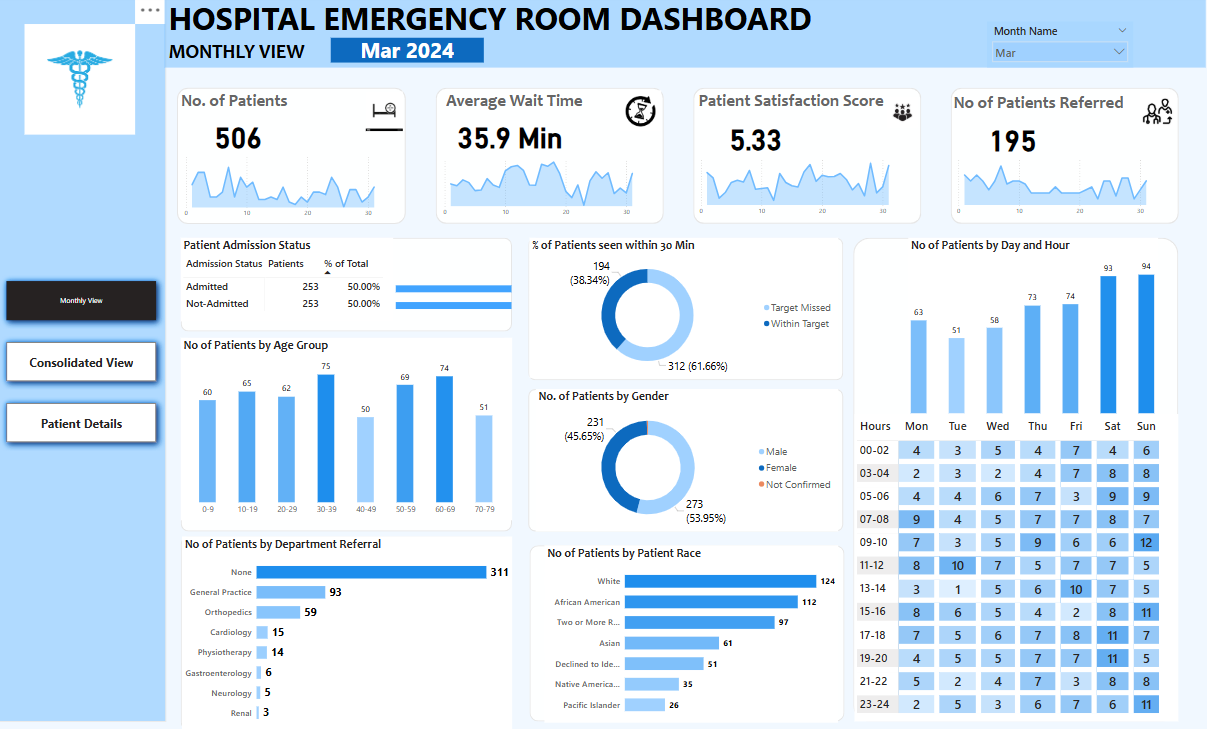

The dashboard page shown, as its layout file describes it:
{"tool":"powerbi","page":{"name":"Monthly View","canvas":[2300,1400],"ordinal":0},"visuals":[{"type":"shape","box":[2.4,0,319.2,1383.4],"z":0},{"type":"shape","box":[318.6,0,1980.6,140.3],"z":1000},{"type":"textbox","box":[320.5,0,1262.4,106],"z":2000},{"type":"shape","box":[342.4,177.4,435.1,259.2],"z":3000},{"type":"textbox","box":[320.5,81.4,969,59.2],"z":4000},{"type":"card","fields":{"Values":["Hospital ER_Data.No of Patients"]},"box":[382.2,234.2,150.4,64.1],"z":5000},{"type":"slicer","fields":{"Values":["Date Table.Month Name"]},"box":[1883.2,52.3,278.2,88],"z":6000},{"type":"areaChart","fields":{"Category":["Date Table.Date.Variation.Date Hierarchy.Day"],"Y":["Hospital ER_Data.No of Patients"]},"box":[345.2,298.4,434,138.1],"z":7000},{"type":"card","fields":{"Values":["Min(Date Table.Month & Year)"]},"box":[633.7,83.8,291,46.8],"z":8000},{"type":"textbox","box":[345.2,177.5,266.3,56.7],"z":9000},{"type":"shape","box":[834,177.4,434,258.9],"z":10000},{"type":"card","fields":{"Values":["Hospital ER_Data.Avg Wait time"]},"box":[848.8,235.4,254.4,64.2],"z":11000},{"type":"areaChart","fields":{"Category":["Date Table.Date.Variation.Date Hierarchy.Day"],"Y":["Avg(Hospital ER_Data.Patient Waittime)"]},"box":[837,302,432.7,130.8],"z":12000},{"type":"textbox","box":[849.4,177.2,300.9,56.2],"z":13000},{"type":"shape","box":[1324.4,177.4,434,258.9],"z":14000},{"type":"shape","box":[1814.8,177.4,434,258.9],"z":15000},{"type":"textbox","box":[1329.2,178.3,404.2,57.1],"z":16000},{"type":"card","fields":{"Values":["Hospital ER_Data.Satisfaction Score"]},"box":[1324.7,233.4,236.2,75.9],"z":17000},{"type":"areaChart","fields":{"Category":["Date Table.Date.Variation.Date Hierarchy.Day"],"Y":["Hospital ER_Data.Satisfaction Score"]},"box":[1324.7,300.9,433.1,129.4],"z":18000},{"type":"textbox","box":[1814,180,405,56.2],"z":19000},{"type":"shape","box":[349.5,463.7,630.1,178.3],"z":20000},{"type":"card","fields":{"Values":["Hospital ER_Data.No of Patient Referred"]},"box":[1814,236.2,236.2,75.9],"z":21000},{"type":"areaChart","fields":{"Category":["Date Table.Date.Variation.Date Hierarchy.Day"],"Y":["Hospital ER_Data.No of Patient Referred"]},"box":[1814,300.9,433.1,129.4],"z":22000},{"type":"pivotTable","title":"Patient Admission Status","fields":{"Rows":["Hospital ER_Data.Admission Status"],"Values":["Hospital ER_Data.No of Patients1","Hospital ER_Data.No of Patients"]},"box":[349.5,463.7,404.2,159.3],"z":23000},{"type":"barChart","fields":{"Category":["Hospital ER_Data.Admission Status"],"Y":["Hospital ER_Data.No of Patients"]},"box":[753.7,525.5,271.1,97.5],"z":24000},{"type":"shape","box":[349.5,653.9,630.1,368.5],"z":25000},{"type":"clusteredColumnChart","fields":{"Category":["Hospital ER_Data.Age Group"],"Y":["Hospital ER_Data.No of Patients"]},"box":[349.5,653.9,630.1,347.1],"z":26000},{"type":"shape","box":[349.5,1031.9,630.1,368.5],"z":27000},{"type":"clusteredBarChart","fields":{"Category":["Hospital ER_Data.Department Referral"],"Y":["Hospital ER_Data.No of Patients"]},"box":[351.9,1031.9,627.7,368.5],"z":28000},{"type":"shape","box":[1010.5,463.7,599.2,271.1],"z":29000},{"type":"donutChart","title":"% of Patients seen within 30 Min","fields":{"Category":["Hospital ER_Data.Wait-time Status"],"Y":["Hospital ER_Data.No of Patients"]},"box":[1012.9,463.7,587.3,266.3],"z":30000},{"type":"shape","box":[1010.5,751.4,599.2,271.1],"z":31000},{"type":"donutChart","title":"No. of Patients by Gender","fields":{"Y":["Hospital ER_Data.No of Patients"],"Category":["Hospital ER_Data.Patient Gender"]},"box":[1024.8,751.4,575.4,271.1],"z":32000},{"type":"shape","box":[1012.9,1048.6,599.2,335.3],"z":33000},{"type":"clusteredBarChart","fields":{"Y":["Hospital ER_Data.No of Patients"],"Category":["Hospital ER_Data.Patient Race"]},"box":[1041.4,1048.6,558.8,337.6],"z":34000},{"type":"image","box":[48.4,53.2,220.1,220.1],"z":35000},{"type":"shape","box":[1628.7,463.7,618.2,920.2],"z":36000},{"type":"pivotTable","fields":{"Rows":["Hospital ER_Data.Waittime Interval"],"Columns":["Date Table.Day Name"],"Values":["Hospital ER_Data.No of Patients"]},"box":[1631.1,798.9,615.8,584.9],"z":37000},{"type":"columnChart","title":"No of Patients by Day and Hour","fields":{"Category":["Date Table.Day Name"],"Y":["Hospital ER_Data.No of Patients"]},"box":[1733.4,463.7,475.5,340],"z":38000},{"type":"image","box":[1179.4,178.3,90.4,88],"z":39000},{"type":"image","box":[1688.2,180.7,69,88],"z":40000},{"type":"image","box":[694.1,181.4,84.6,84.6],"z":41000},{"type":"image","box":[2168.5,180.7,78.5,85.6],"z":42000},{"type":"pageNavigator","box":[2.4,530.7,316.8,338.6],"z":43000}]}

Visuals, with their boxes in screenshot pixels (x1, y1, x2, y2), scaled from the page's 2300x1400 canvas onto the 1207x729 screenshot:
shape: <region>1, 0, 169, 720</region>
shape: <region>167, 0, 1206, 73</region>
textbox: <region>168, 0, 831, 55</region>
shape: <region>180, 92, 408, 227</region>
textbox: <region>168, 42, 677, 73</region>
card - Hospital ER_Data.No of Patients: <region>201, 122, 279, 155</region>
slicer - Date Table.Month Name: <region>988, 27, 1134, 73</region>
areaChart - Date Table.Date.Variation.Date Hierarchy.Day x Hospital ER_Data.No of Patients: <region>181, 155, 409, 227</region>
card - Min(Date Table.Month & Year): <region>333, 44, 485, 68</region>
textbox: <region>181, 92, 321, 122</region>
shape: <region>438, 92, 665, 227</region>
card - Hospital ER_Data.Avg Wait time: <region>445, 123, 579, 156</region>
areaChart - Date Table.Date.Variation.Date Hierarchy.Day x Avg(Hospital ER_Data.Patient Waittime): <region>439, 157, 666, 225</region>
textbox: <region>446, 92, 604, 122</region>
shape: <region>695, 92, 923, 227</region>
shape: <region>952, 92, 1180, 227</region>
textbox: <region>698, 93, 910, 123</region>
card - Hospital ER_Data.Satisfaction Score: <region>695, 122, 819, 161</region>
areaChart - Date Table.Date.Variation.Date Hierarchy.Day x Hospital ER_Data.Satisfaction Score: <region>695, 157, 922, 224</region>
textbox: <region>952, 94, 1164, 123</region>
shape: <region>183, 241, 514, 334</region>
card - Hospital ER_Data.No of Patient Referred: <region>952, 123, 1076, 163</region>
areaChart - Date Table.Date.Variation.Date Hierarchy.Day x Hospital ER_Data.No of Patient Referred: <region>952, 157, 1179, 224</region>
"Patient Admission Status" pivotTable: <region>183, 241, 396, 324</region>
barChart - Hospital ER_Data.Admission Status x Hospital ER_Data.No of Patients: <region>396, 274, 538, 324</region>
shape: <region>183, 340, 514, 532</region>
clusteredColumnChart - Hospital ER_Data.Age Group x Hospital ER_Data.No of Patients: <region>183, 340, 514, 521</region>
shape: <region>183, 537, 514, 728</region>
clusteredBarChart - Hospital ER_Data.Department Referral x Hospital ER_Data.No of Patients: <region>185, 537, 514, 728</region>
shape: <region>530, 241, 845, 383</region>
"% of Patients seen within 30 Min" donutChart: <region>532, 241, 840, 380</region>
shape: <region>530, 391, 845, 532</region>
"No. of Patients by Gender" donutChart: <region>538, 391, 840, 532</region>
shape: <region>532, 546, 846, 721</region>
clusteredBarChart - Hospital ER_Data.No of Patients x Hospital ER_Data.Patient Race: <region>547, 546, 840, 722</region>
image: <region>25, 28, 141, 142</region>
shape: <region>855, 241, 1179, 721</region>
pivotTable - Hospital ER_Data.Waittime Interval x Date Table.Day Name: <region>856, 416, 1179, 721</region>
"No of Patients by Day and Hour" columnChart: <region>910, 241, 1159, 418</region>
image: <region>619, 93, 666, 139</region>
image: <region>886, 94, 922, 140</region>
image: <region>364, 94, 409, 139</region>
image: <region>1138, 94, 1179, 139</region>
pageNavigator: <region>1, 276, 168, 453</region>
